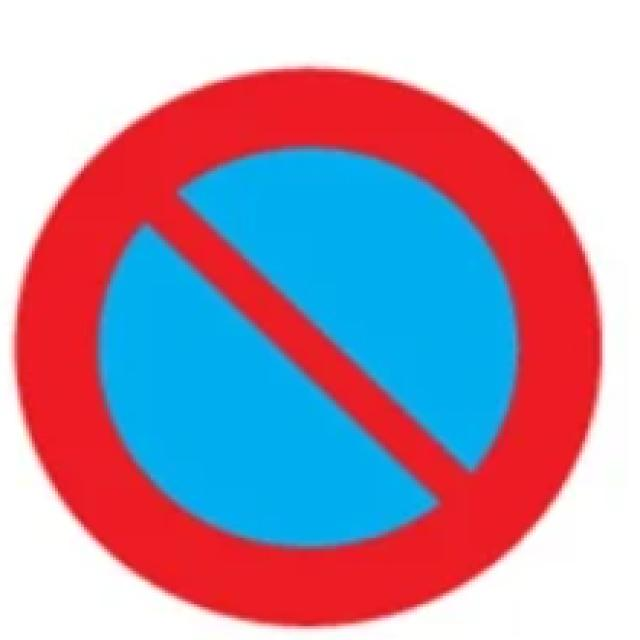Bien bao cam do xe: (12, 61, 605, 626)
